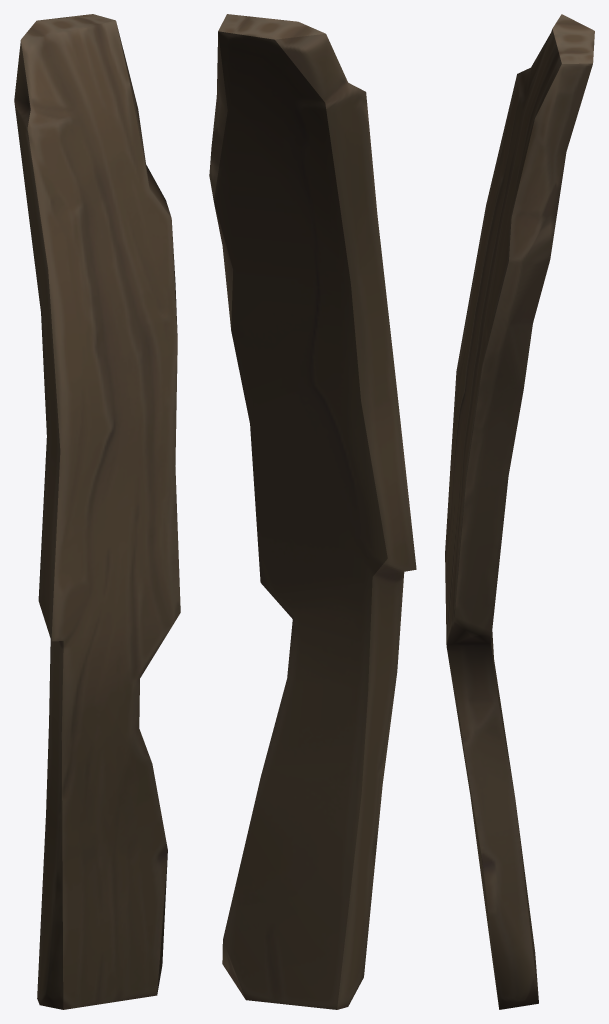
The model's file is SM_FW01_BarrelDebris_01.fbx.
3 views of the same model, side by side, from view 1: azimuth 30°, elevation 25°; view 2: azimuth 150°, elevation 25°; view 3: azimuth 270°, elevation 25° (orthographic). The views are drawn at different scales.
Visible parts, largest first — view 1: SM_FW01_BarrelDebris_01_LOD0; view 2: SM_FW01_BarrelDebris_01_LOD0; view 3: SM_FW01_BarrelDebris_01_LOD0.
Part boxes in pixels (left/top/right/bottom): SM_FW01_BarrelDebris_01_LOD0: left=14, top=14, right=180, bottom=1009; SM_FW01_BarrelDebris_01_LOD0: left=209, top=14, right=416, bottom=1009; SM_FW01_BarrelDebris_01_LOD0: left=445, top=14, right=594, bottom=1009.
Size of what is drawn, in the model's own units: 0.1884 by 1.1 by 0.1579.
